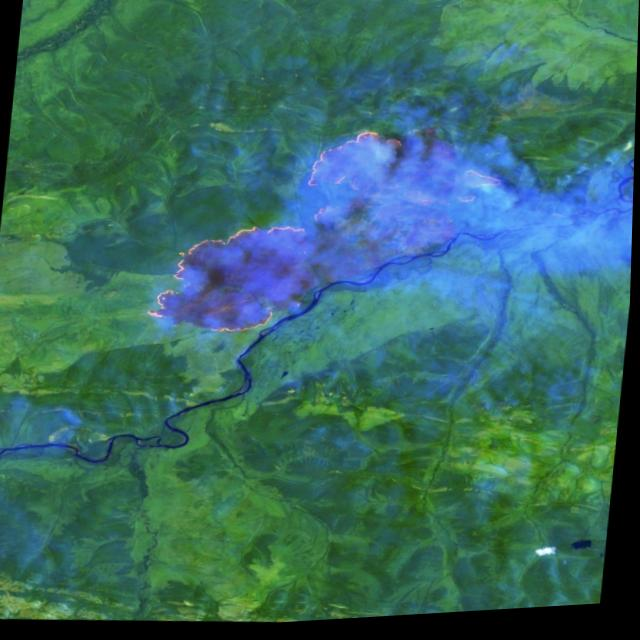fire: (140, 113, 411, 354)
